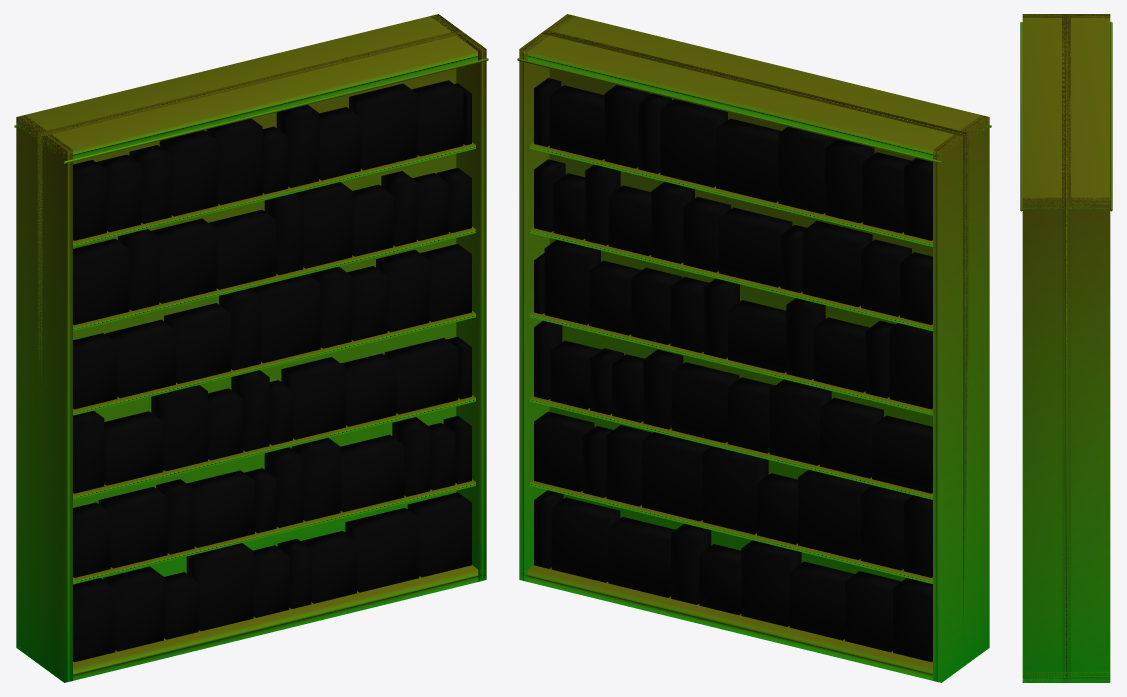
File: archive_case.glb
The picture shows the model from 3 angles, left to right: view 1: azimuth 30°, elevation 25°; view 2: azimuth 150°, elevation 25°; view 3: azimuth 270°, elevation 25°; orthographic projection. The views are drawn at different scales.
Visible parts, largest first — view 1: archive_case; view 2: archive_case; view 3: archive_case.
Part boxes in pixels (box(x1,y1,x2,y2)): archive_case: box(14, 14, 488, 682); archive_case: box(517, 14, 991, 682); archive_case: box(1020, 14, 1112, 682).
Size of what is drawn, in the model's own units: 5 by 5.98 by 1.04.
